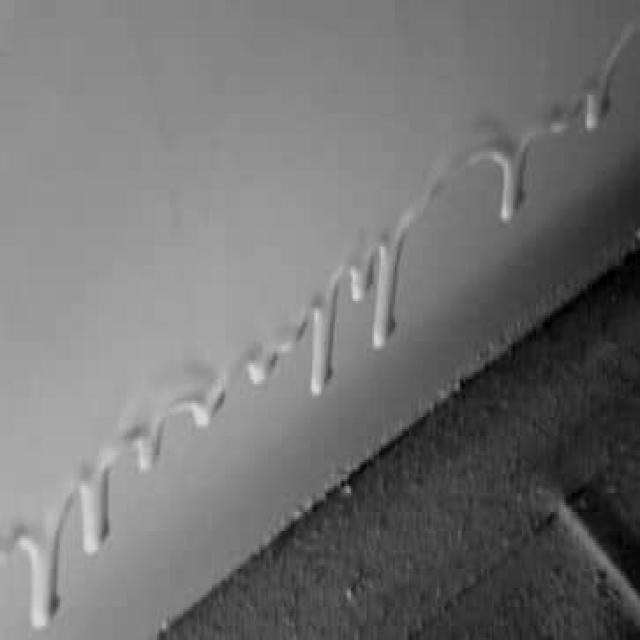paint drips: (414, 94, 572, 268), (4, 416, 118, 634), (334, 194, 470, 359), (228, 263, 358, 412), (107, 362, 246, 501), (529, 3, 638, 165)
